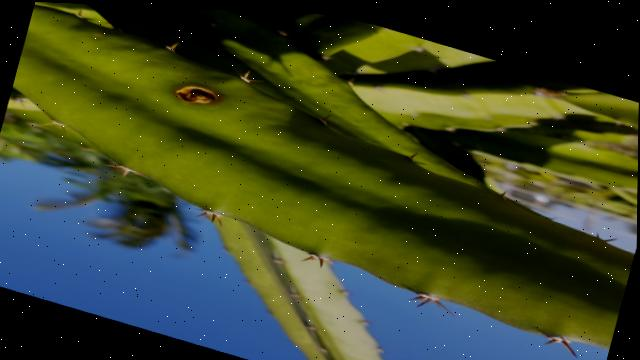stemcanker: (168, 81, 224, 109)
